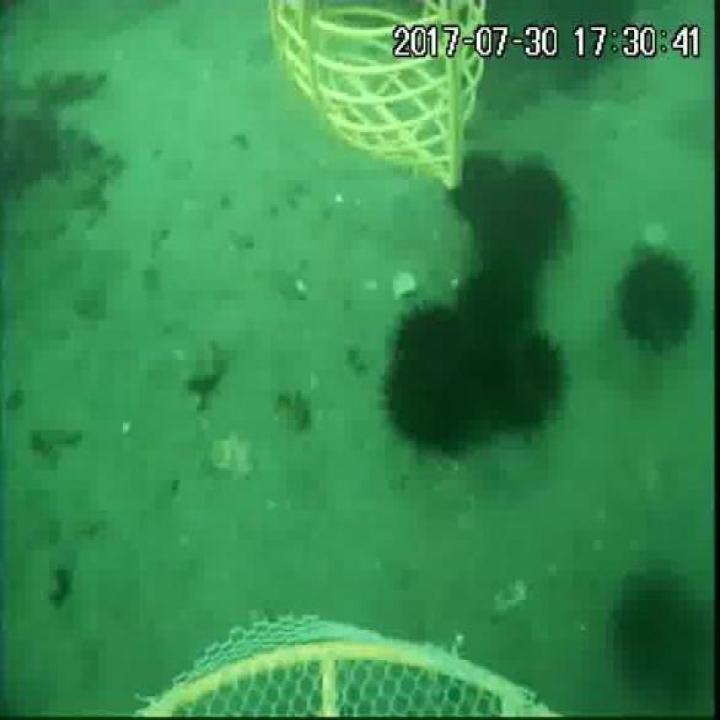echinus: (602, 550, 718, 708), (480, 161, 574, 280), (384, 342, 476, 458), (480, 326, 568, 438), (613, 246, 702, 354), (456, 265, 531, 363), (390, 301, 476, 375), (448, 149, 515, 231)
